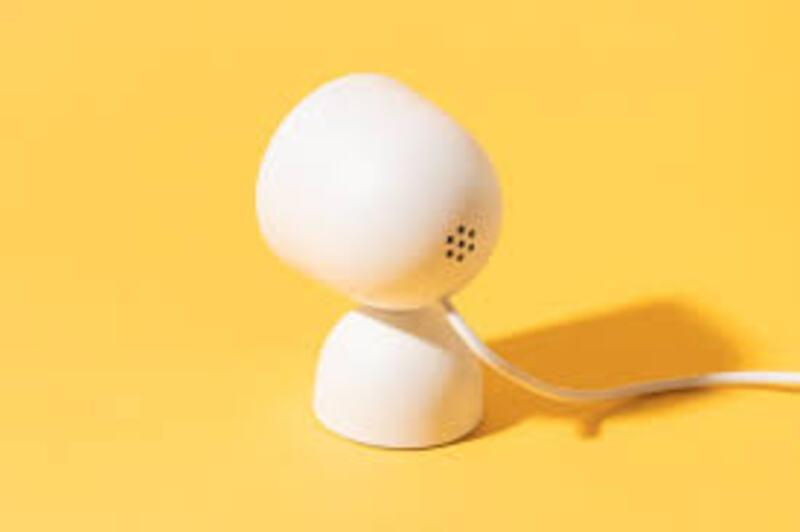nest: (246, 69, 512, 311)
